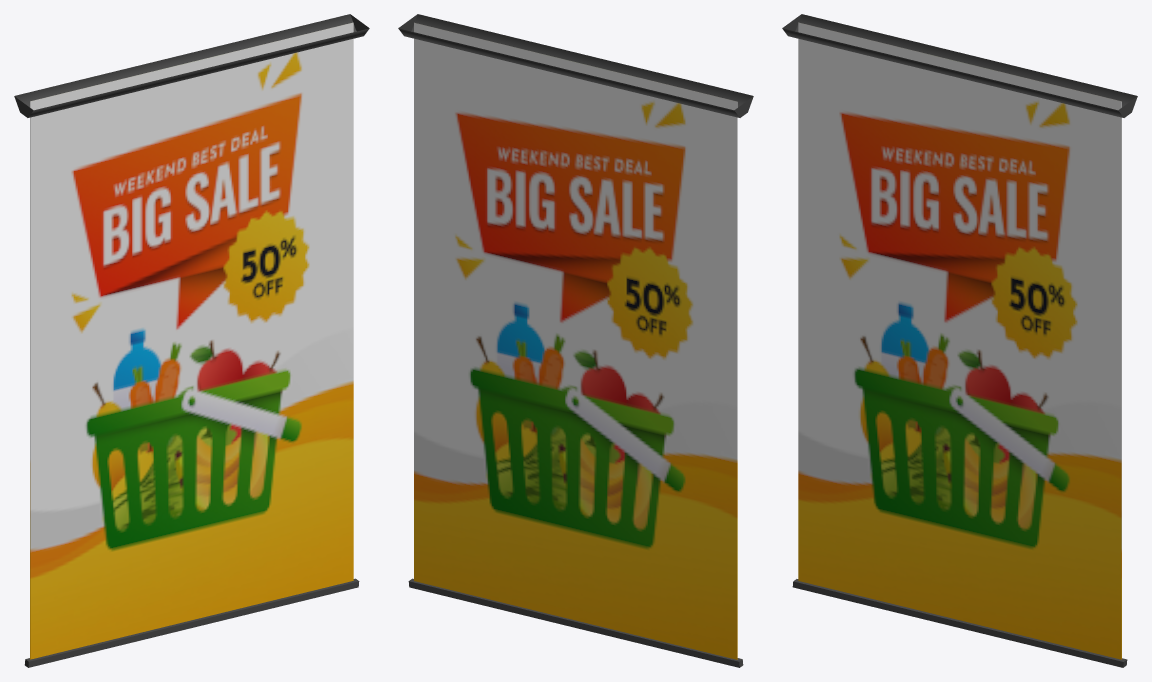
File: SaleBannerB.fbx
3 renders of one model, left to right at view 1: azimuth 30°, elevation 25°; view 2: azimuth 150°, elevation 25°; view 3: azimuth 330°, elevation 25°, orthographic.
Visible parts, largest first — view 1: SaleBannerB; view 2: SaleBannerB; view 3: SaleBannerB.
Part boxes in pixels (x1=…): SaleBannerB: x1=14, y1=14, x2=369, y2=667; SaleBannerB: x1=398, y1=14, x2=753, y2=667; SaleBannerB: x1=782, y1=14, x2=1137, y2=667.
Size of the model in its own units: 72.3 by 116 by 7.3.
